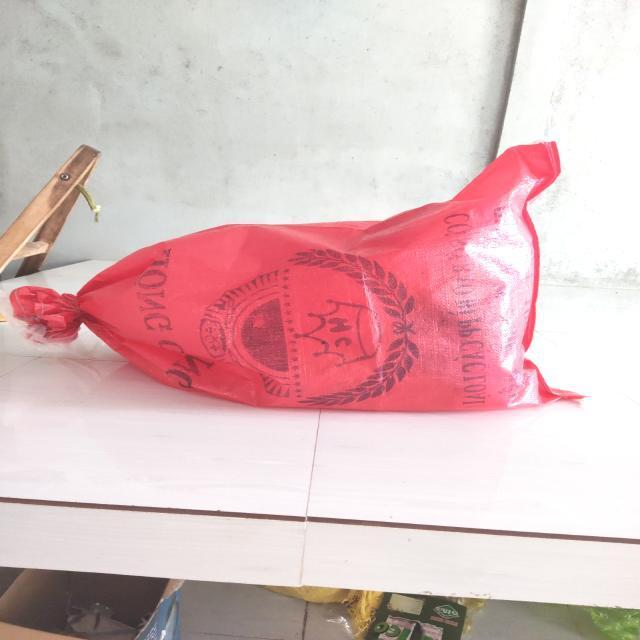gunny_bag: (9, 142, 584, 411)
